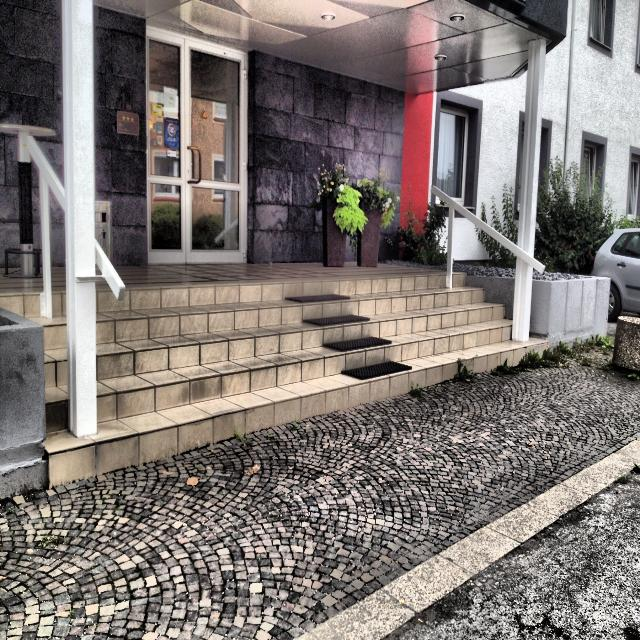escada: (2, 276, 534, 486)
